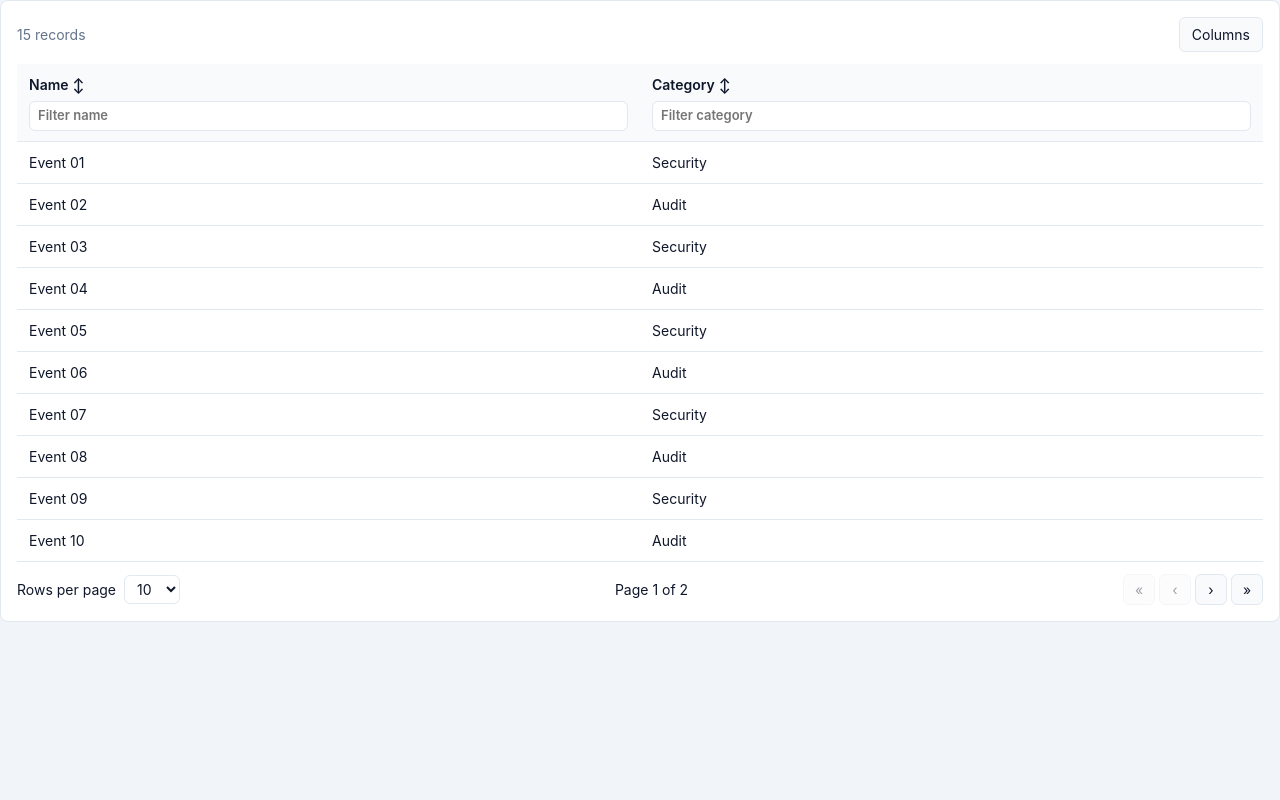
Test: DataGrid › filters rows by column value
Type "Audit" into the search field named "Filter by Category". click: [952, 116]
box: [652,101,1251,130]
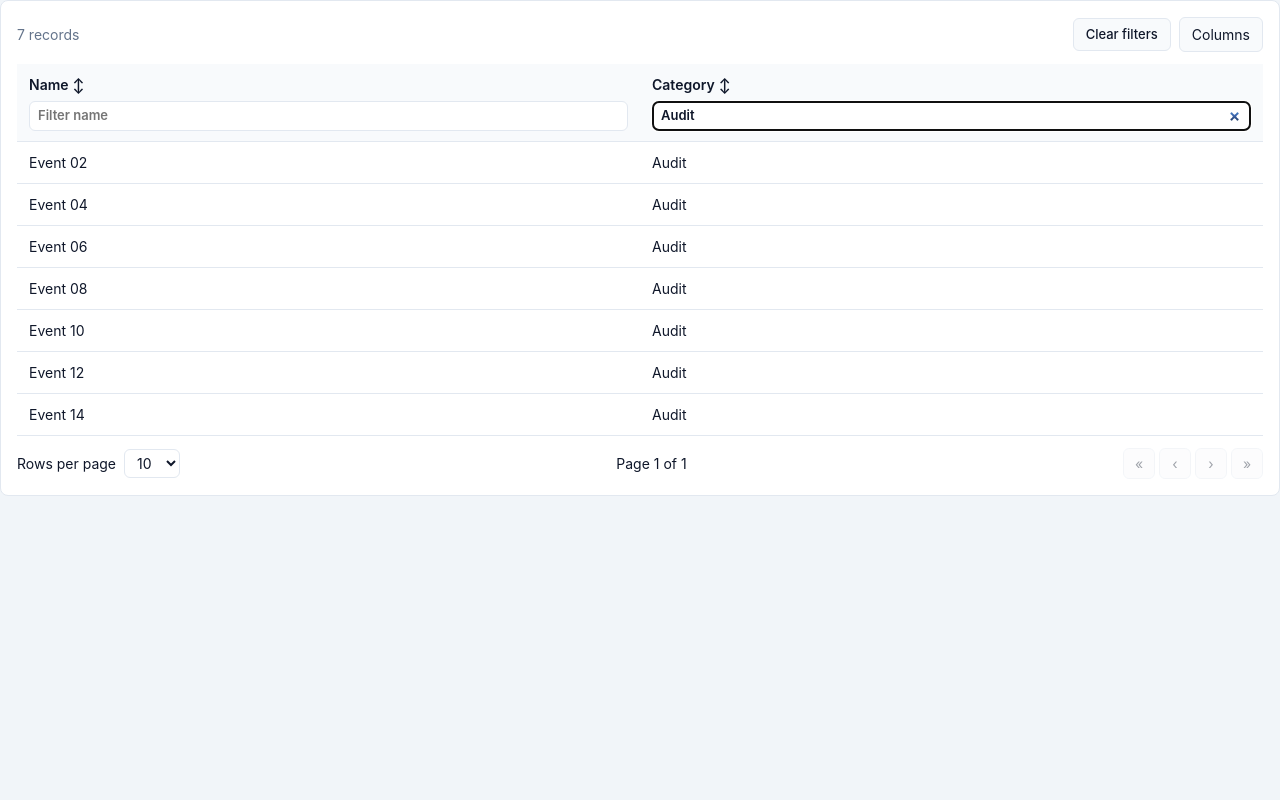
expect the text "Event 02" is shown: met, box [17,141,640,183]
expect the text "7 records" is shown: met, box [17,24,80,45]
expect the text "Event 01" is gone: met
